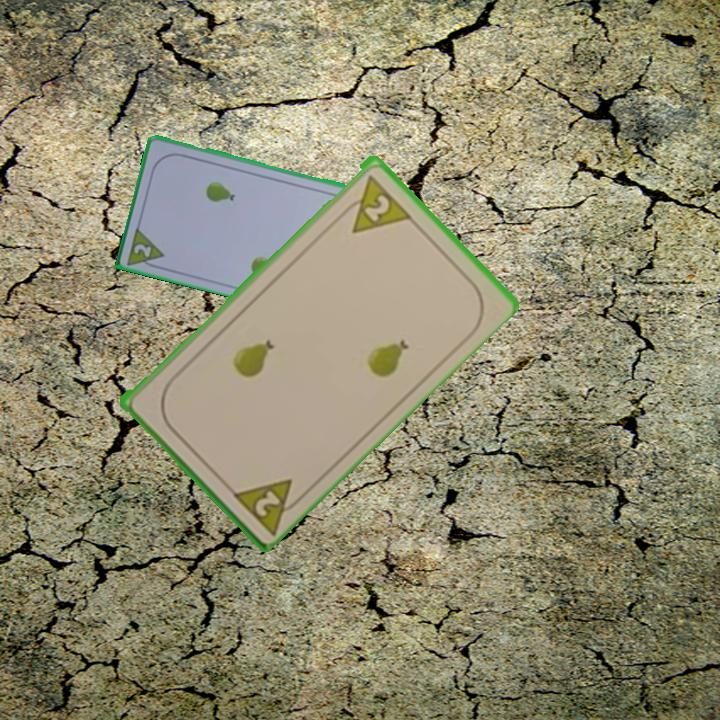2p: (336, 171, 413, 236), (124, 222, 168, 272), (251, 486, 284, 520)
